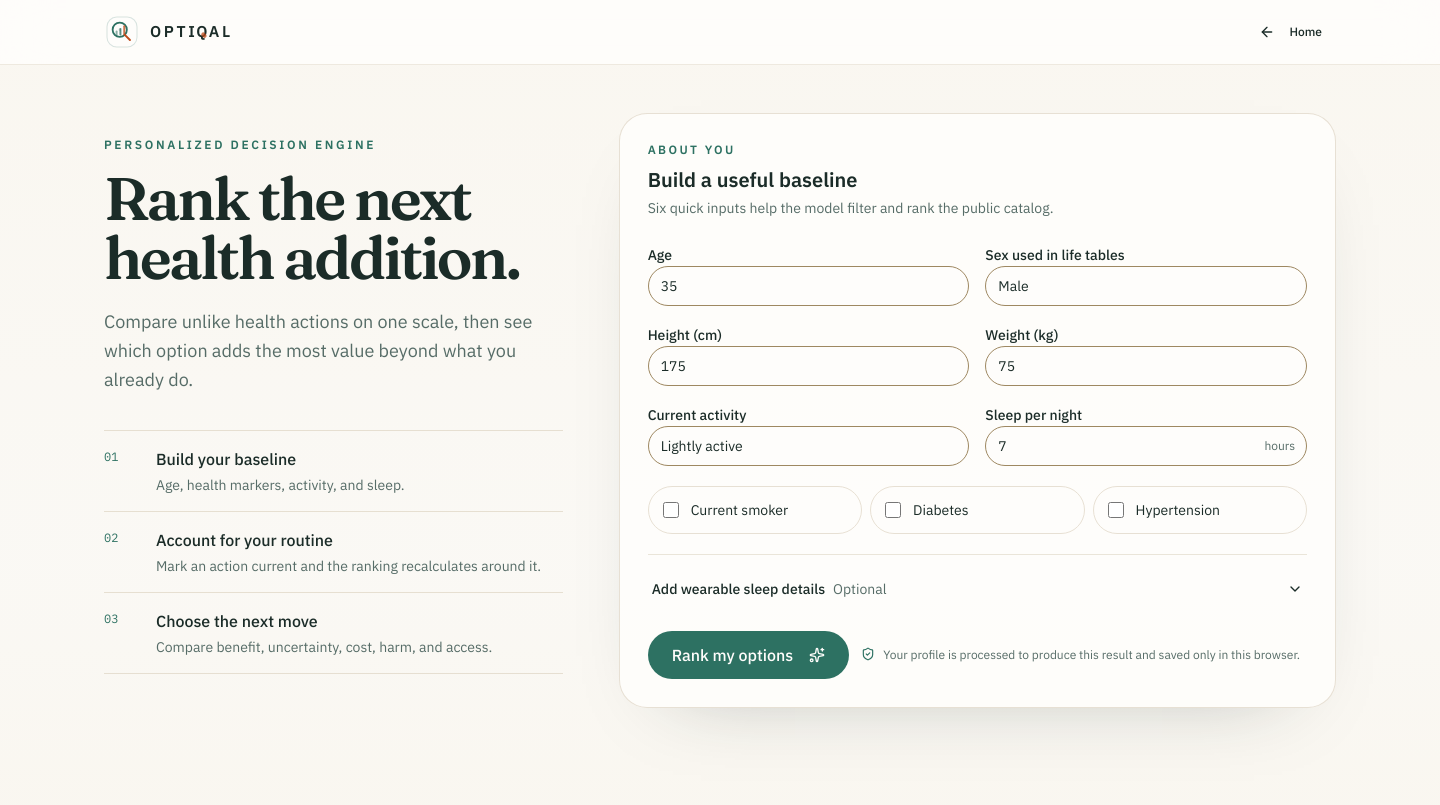
Test: FrontierWorkbench › restores the analyzed profile and sleep inputs when draft edits are closed
The image size is (1440, 805).
Click the button "Rank my options" at {"x": 748, "y": 655}, box [648,631,849,679]
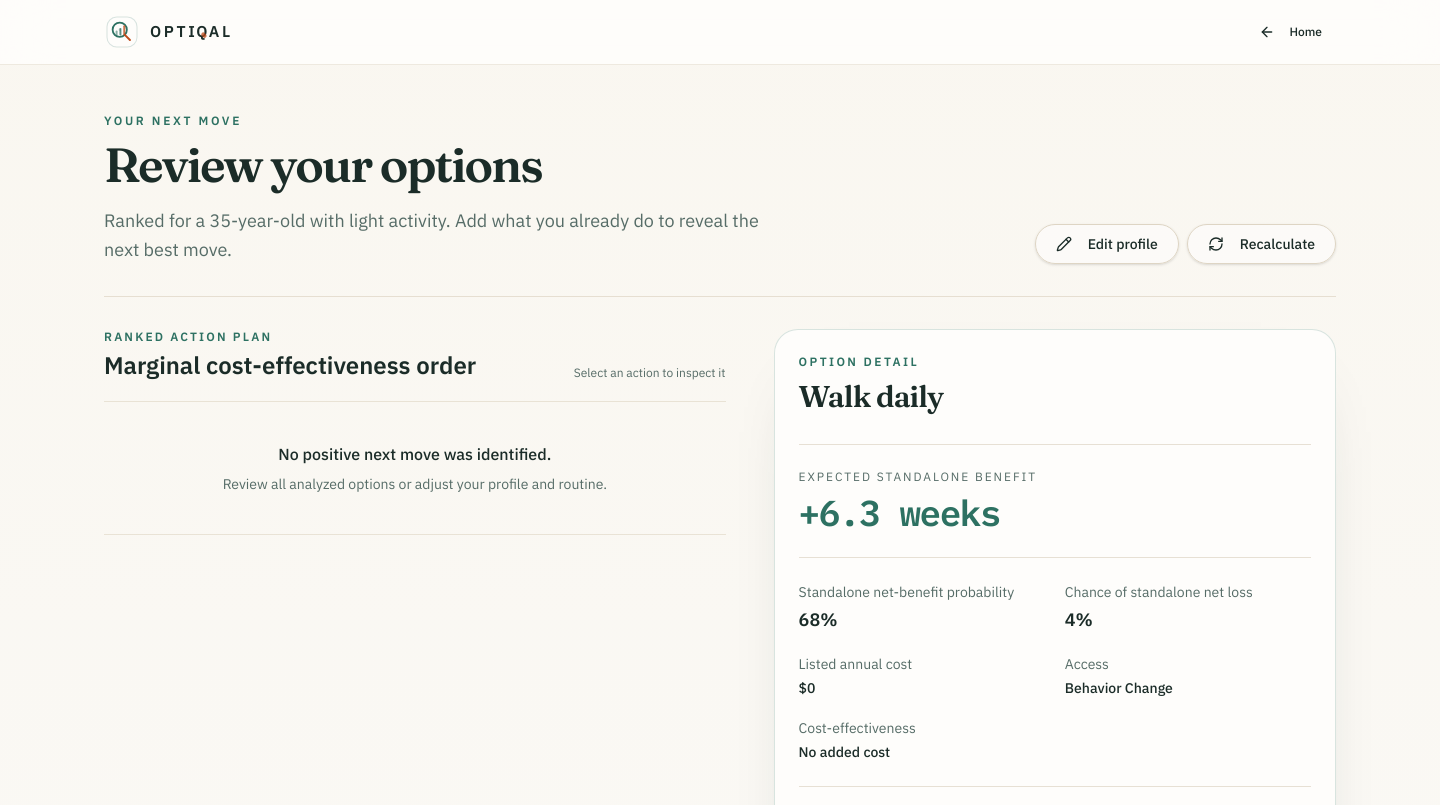
Check: the heading "Marginal cost-effectiveness order" is shown, box [104,350,476,382]
Click the button "Edit profile" at {"x": 1107, "y": 244}, box [1035,224,1179,264]
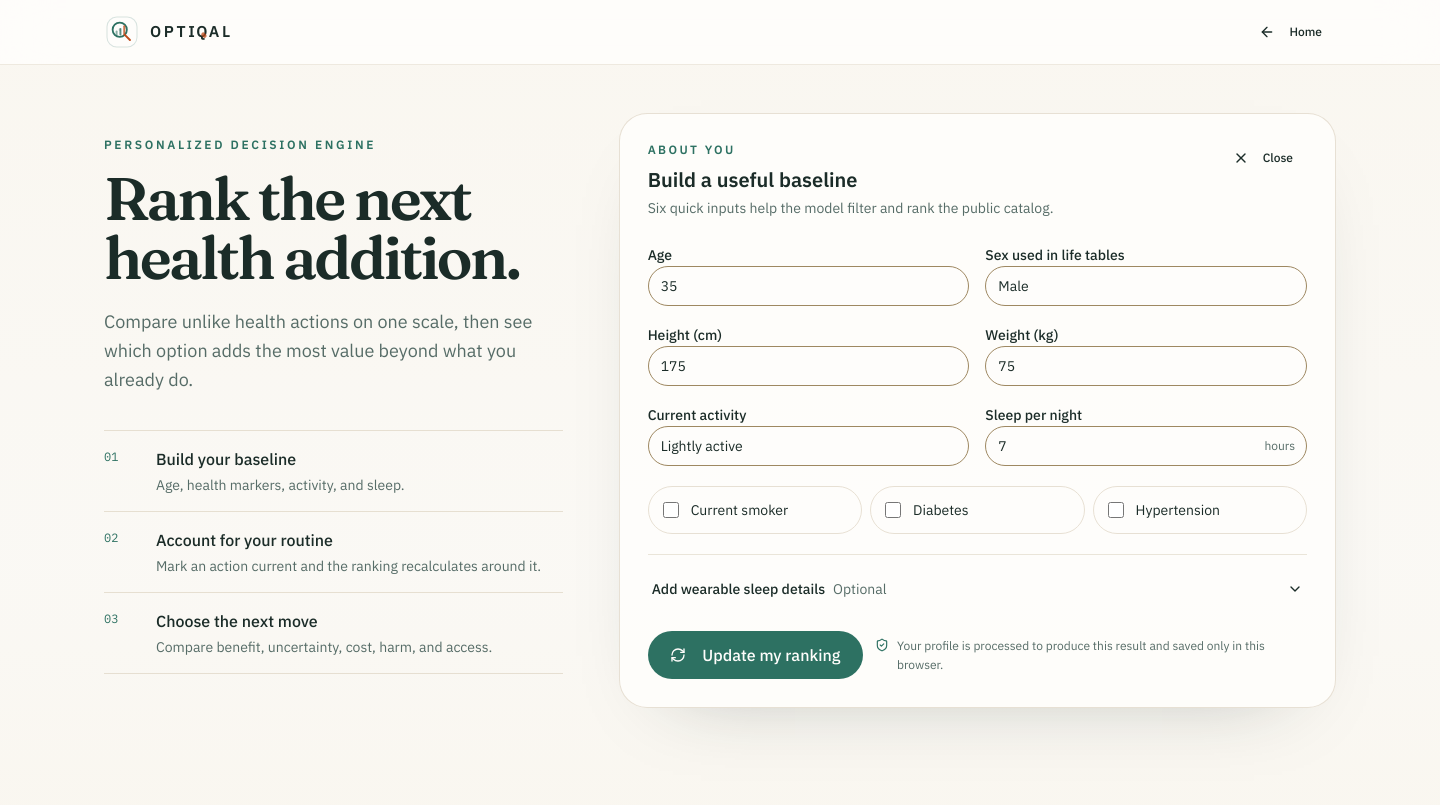
Replace the text in the number field labelled "Age" with "45" at {"x": 808, "y": 286}, box [648,266,969,306]
Click the button "Add wearable sleep details" at {"x": 738, "y": 589}, box [648,571,1307,607]
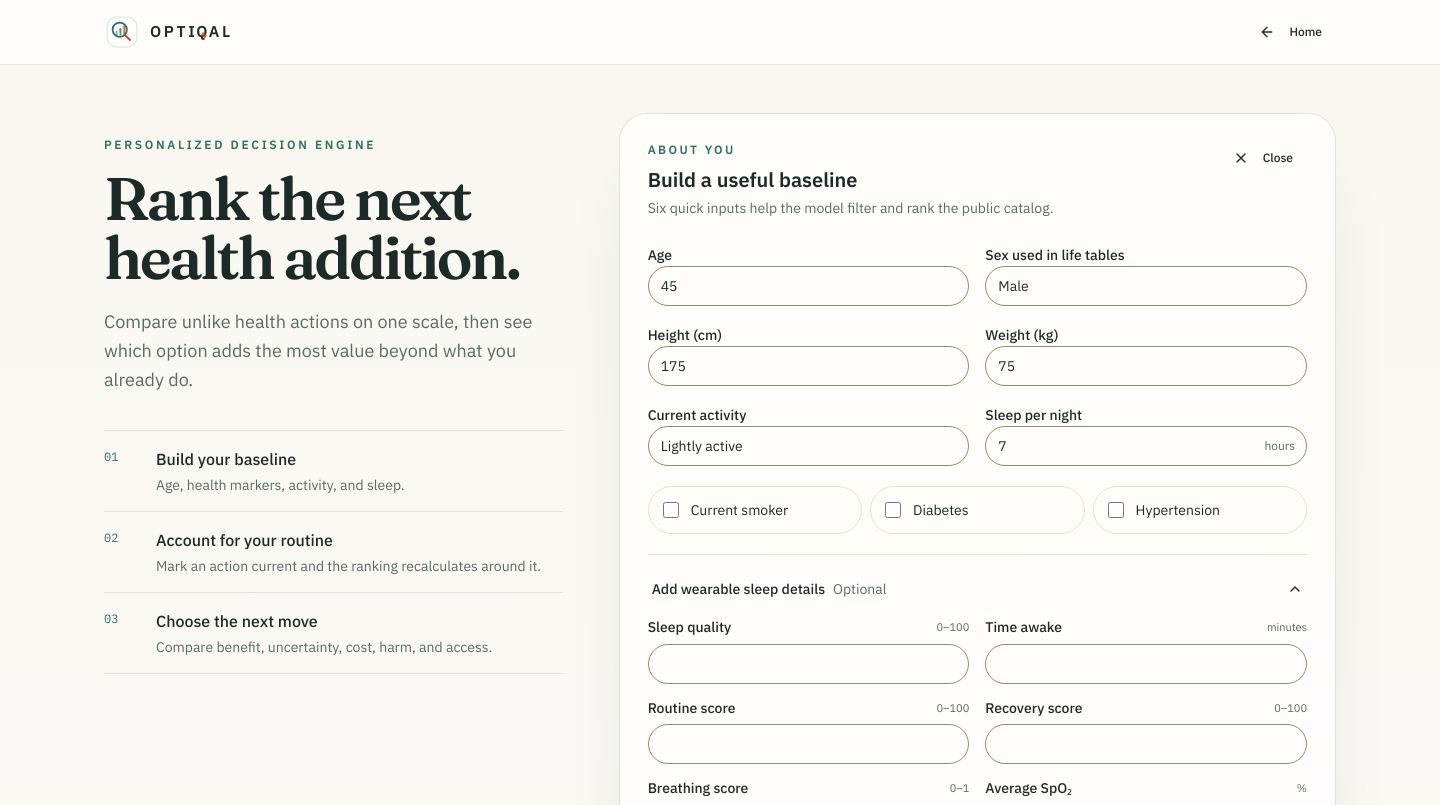
Type "80" into the number field labelled "Sleep quality" at {"x": 808, "y": 664}, box [648,644,969,684]
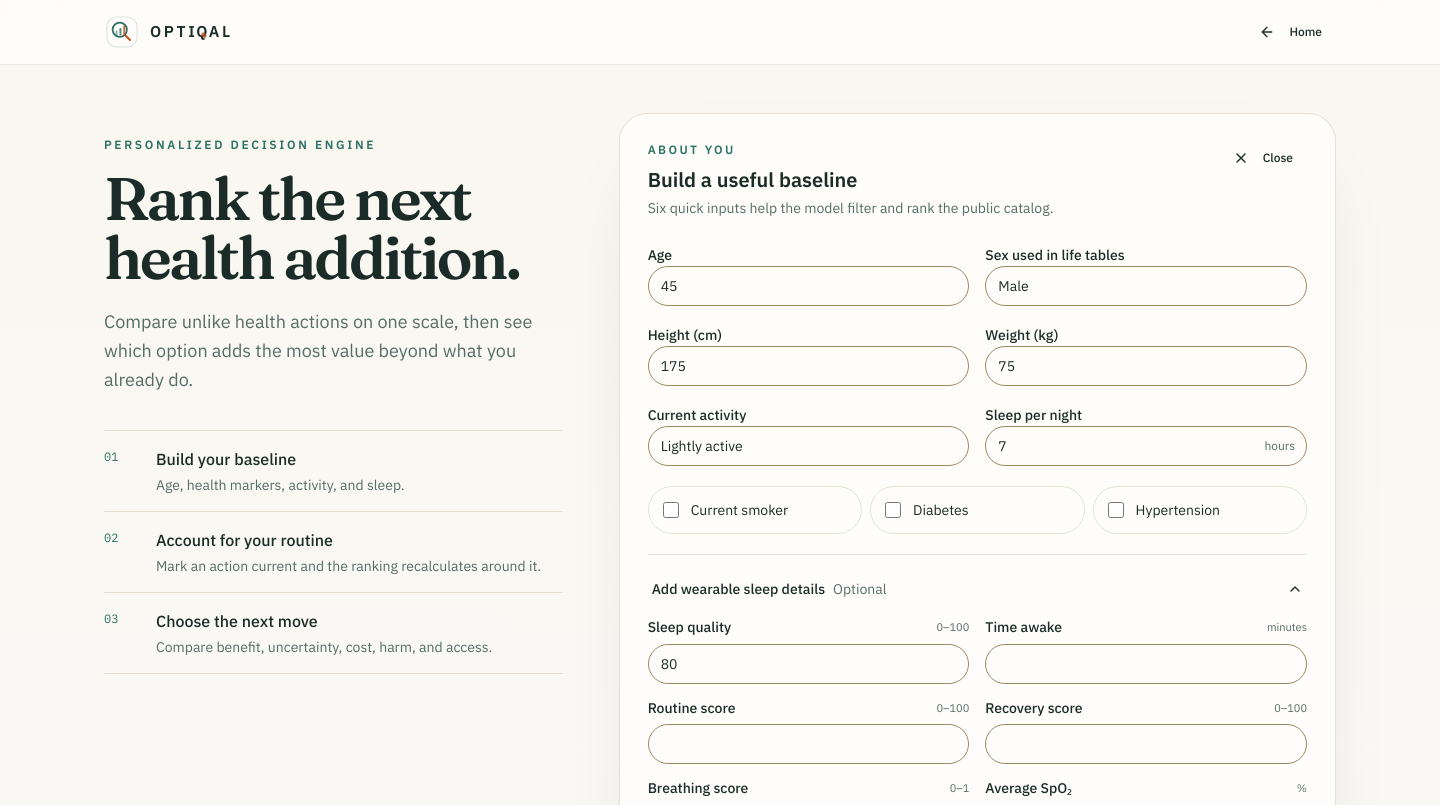
Click the button "Close" at {"x": 1263, "y": 158}, box [1219,142,1307,174]
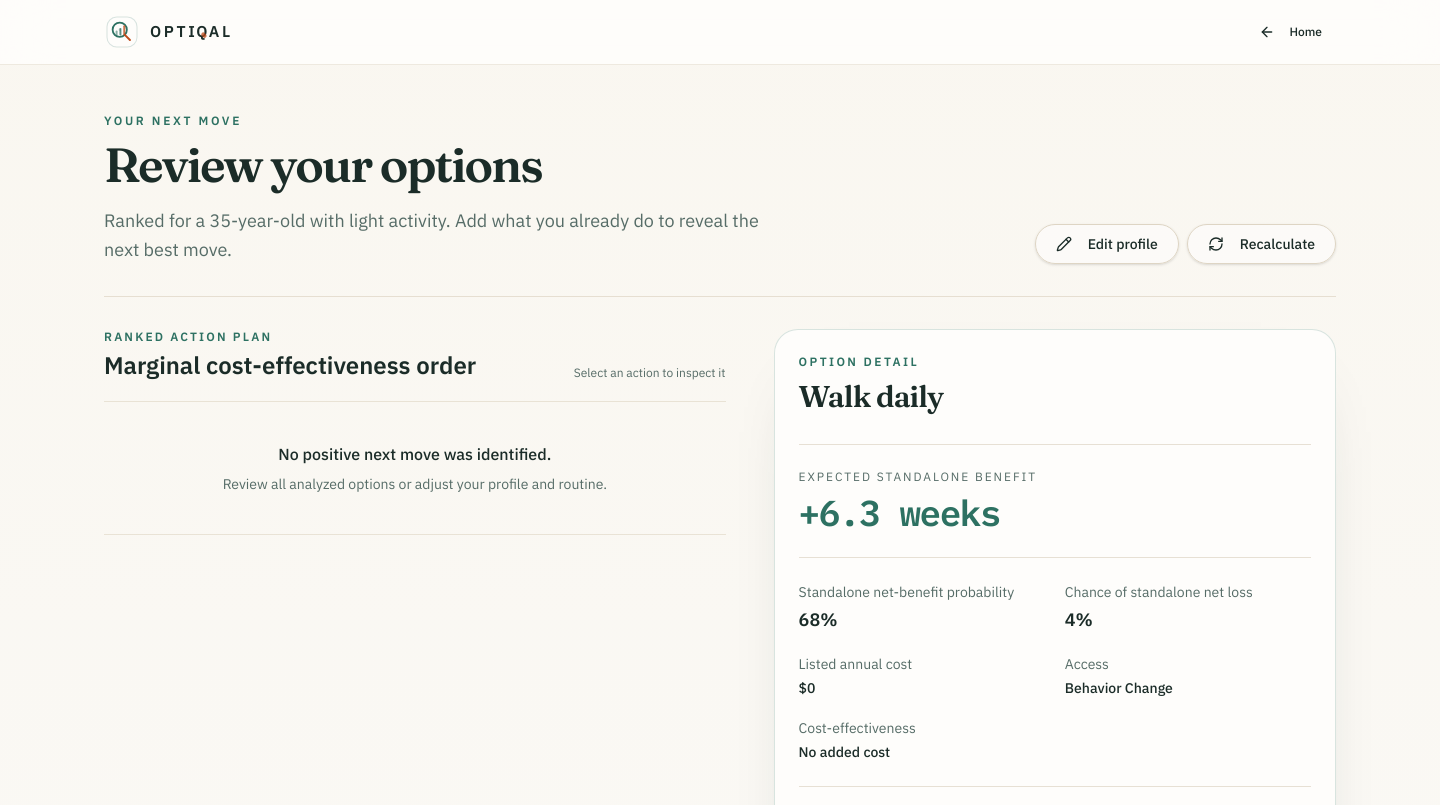
Check: the text "Ranked for a 35-year-old" is shown, box [104,206,776,264]
Click the button "Edit profile" at {"x": 1107, "y": 244}, box [1035,224,1179,264]
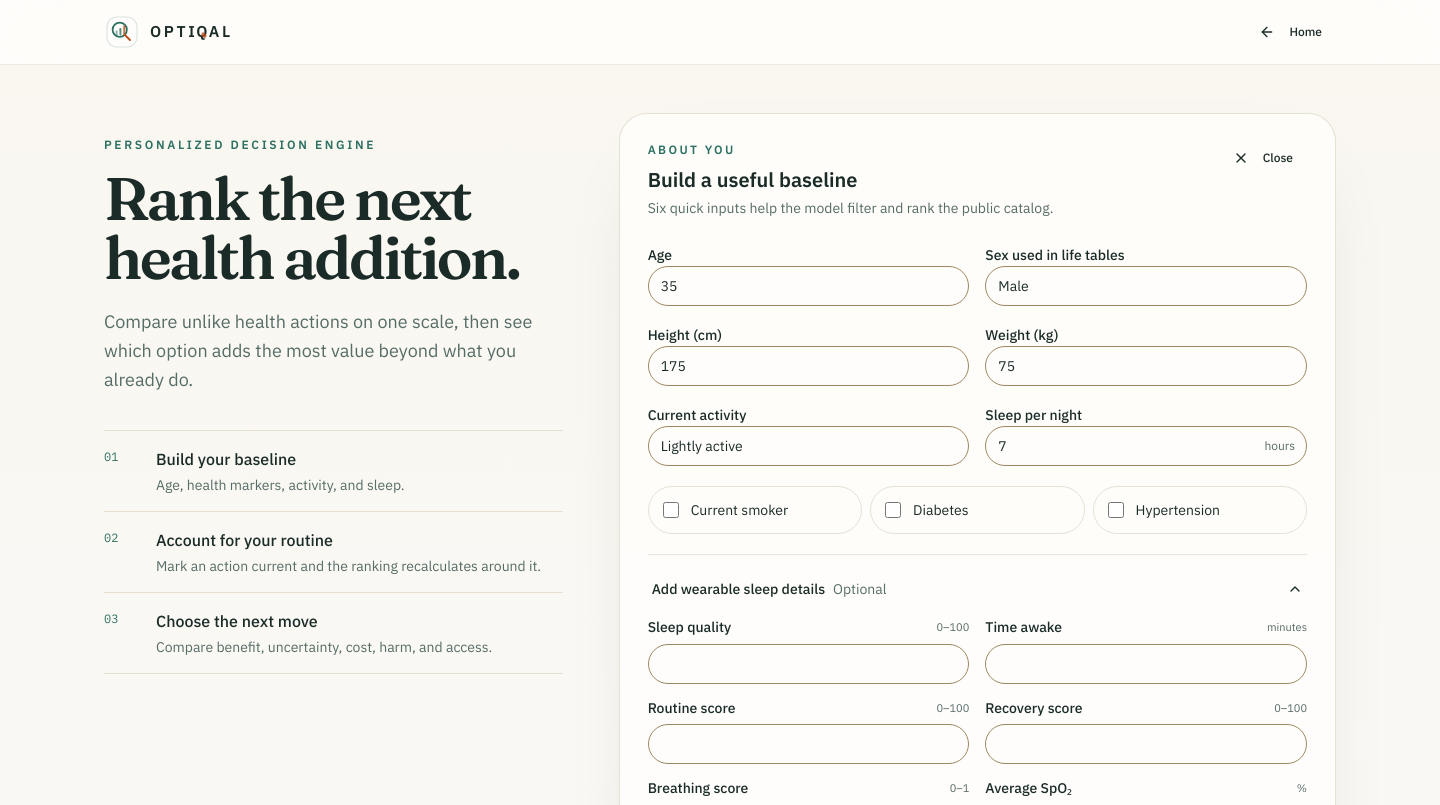
Check: the number field labelled "Age" holds "35", box [648,266,969,306]
Check: the number field labelled "Sleep quality" is not empty, box [648,644,969,684]
